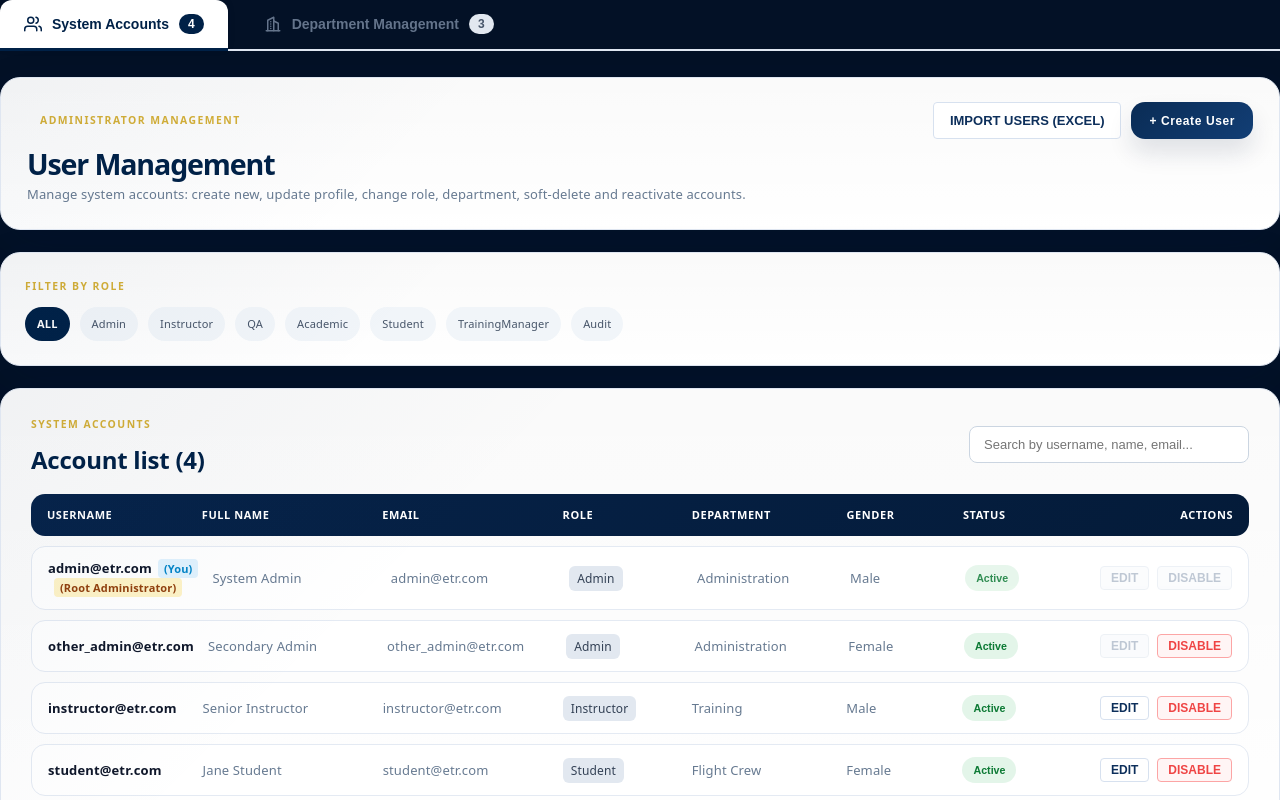
it: UserManagement - Admin Edit Account Permissions (BR-117) & Gender Options › enables Edit button for non-admin accounts and opens modal when clicked
Expected: the 1st text "instructor@etr.com" is shown, [48, 699, 188, 718]
Expected: the button "Edit" in the row of "Flight Crew" is enabled, [1100, 758, 1149, 782]
Click on instructor edit button
Click the button "Edit" in the row of "Senior Instructor" at (1125, 708), box [1100, 696, 1149, 720]
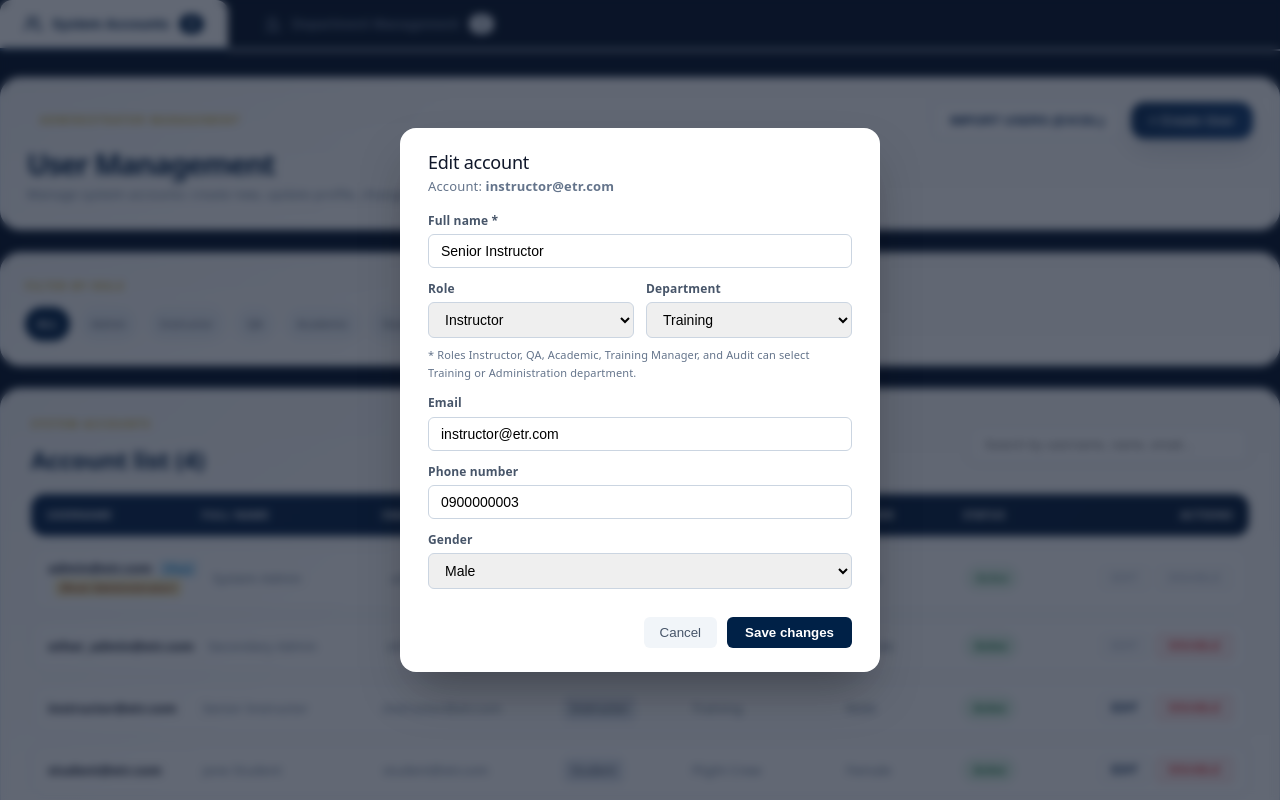
Now the field showing "Senior Instructor" below "Full name *" is shown, box [428, 234, 852, 268]
